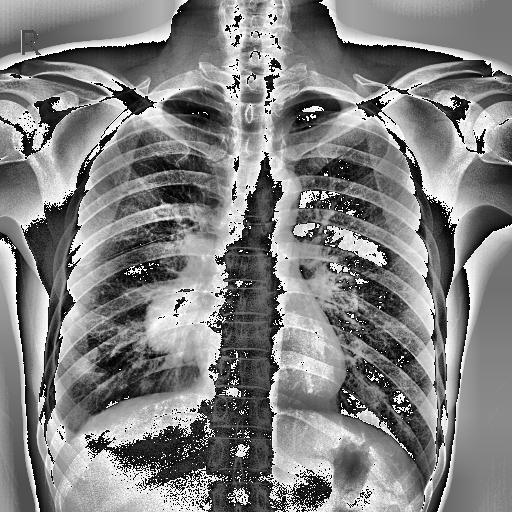10- Pleural effusion: (34, 407, 76, 464), (45, 408, 68, 454)
11- Pleural thickening: (42, 398, 80, 470), (34, 407, 76, 464), (53, 280, 78, 340), (45, 408, 68, 454)
7- Lung Opacity: (144, 276, 208, 344)
8- Nodule-Mass: (144, 284, 208, 358), (144, 276, 208, 344), (148, 284, 204, 350)
9- Other lesion: (144, 284, 208, 358), (53, 280, 78, 340)
